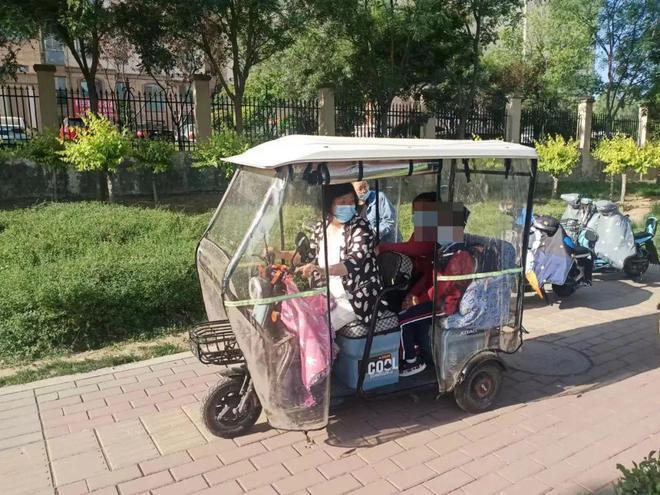driver: (286, 178, 378, 364)
overloading: (164, 127, 558, 444)
passenger: (430, 214, 470, 351), (400, 196, 442, 303)
